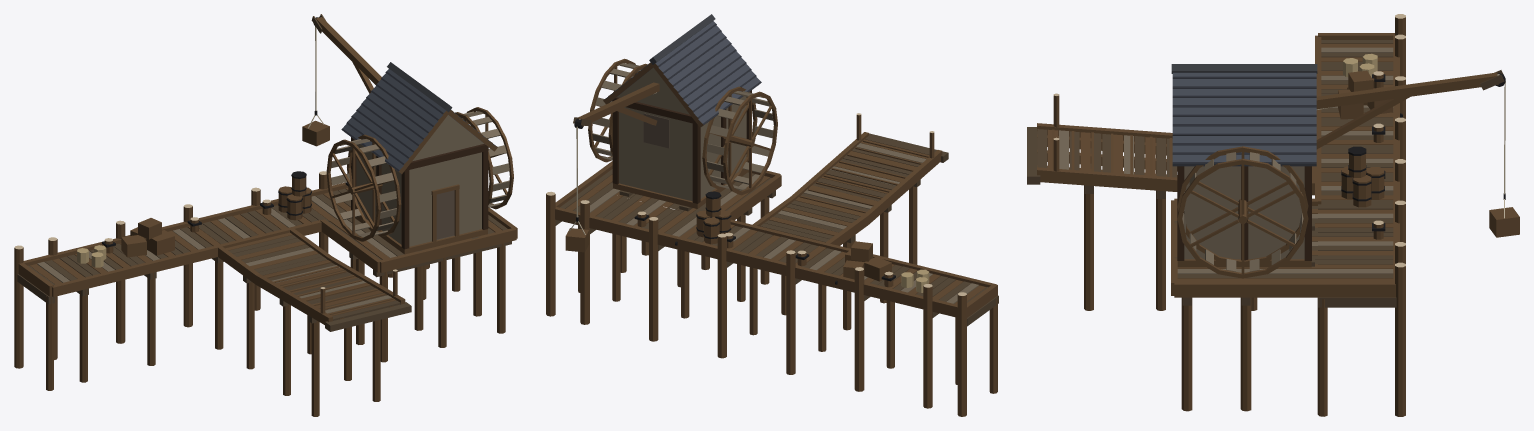
The model's file is wasser_hafensteg.glb.
3 renders of one model, left to right at view 1: azimuth 30°, elevation 25°; view 2: azimuth 150°, elevation 25°; view 3: azimuth 270°, elevation 25°, orthographic. The views are drawn at different scales.
Visible parts, largest first — view 1: Hafensteg, Kranhaus, Tretrad; view 2: Hafensteg, Kranhaus, Tretrad; view 3: Hafensteg, Kranhaus, Tretrad.
Part boxes in pixels (bbox=[...]): Hafensteg: bbox=[14, 171, 517, 416]; Kranhaus: bbox=[302, 14, 497, 254]; Tretrad: bbox=[326, 107, 513, 241]; Hafensteg: bbox=[546, 113, 998, 416]; Kranhaus: bbox=[565, 14, 761, 252]; Tretrad: bbox=[588, 58, 777, 195]; Hafensteg: bbox=[1027, 14, 1405, 416]; Kranhaus: bbox=[1171, 64, 1519, 267]; Tretrad: bbox=[1177, 146, 1308, 278].
Size of the model in its own units: 18.33 by 10.43 by 15.07.
